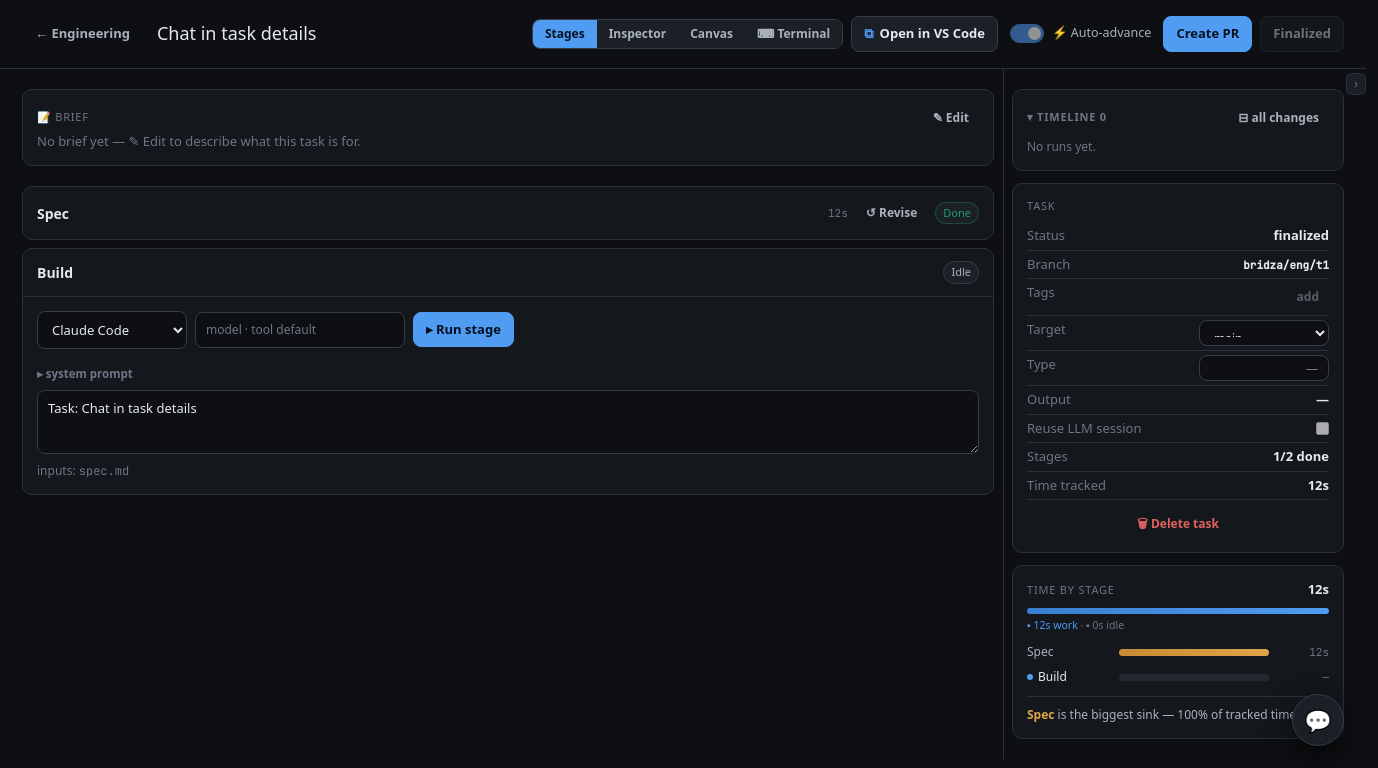
Scenario: one live run per task › disables it on a finalized task and says what to do instead
Click the button with class "chat-bubble": (1318, 720) [1292,694,1344,746]
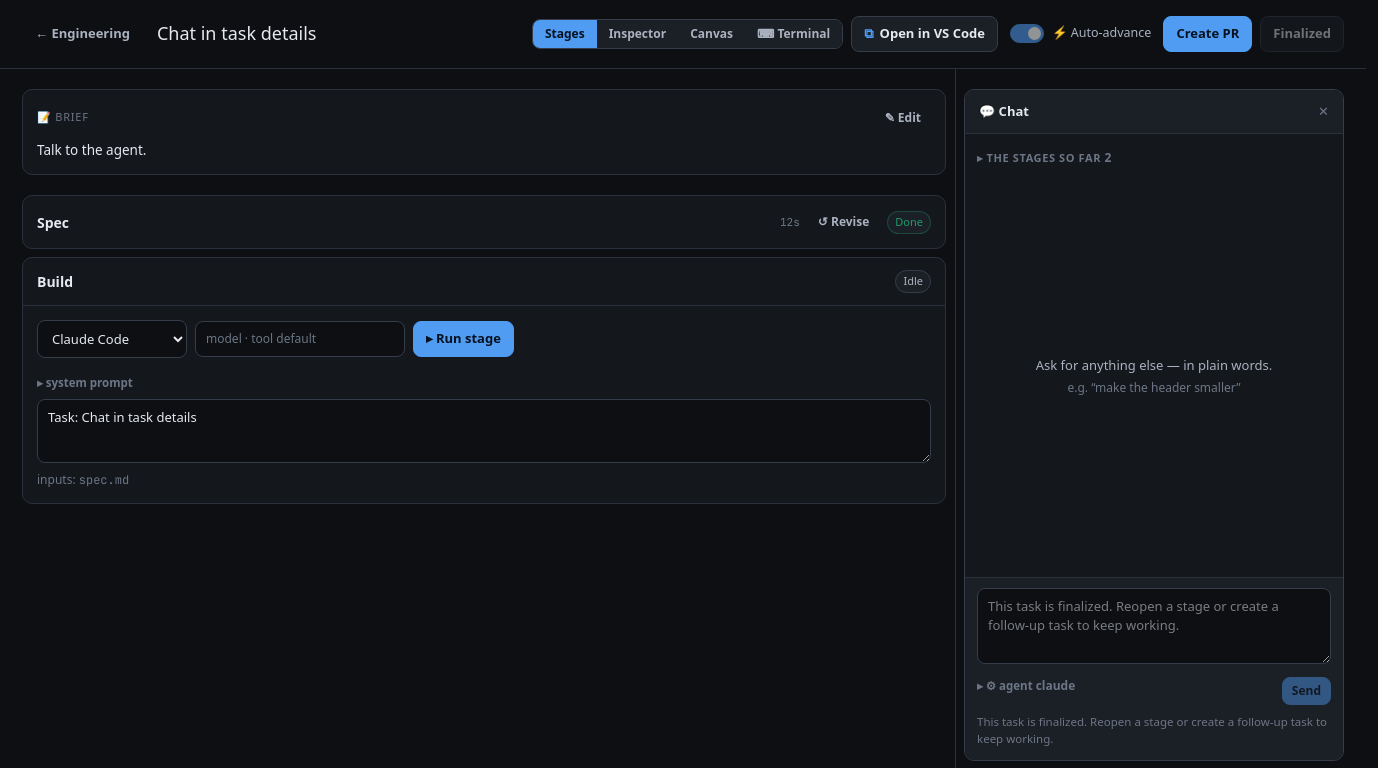
Check: the text box with class "chat-input" is disabled, box [977,588,1331,664]
Check: the text with class "chat-hint" shows "finalized. Reopen a stage or create a follow-up task", box [977,714,1327,746]
